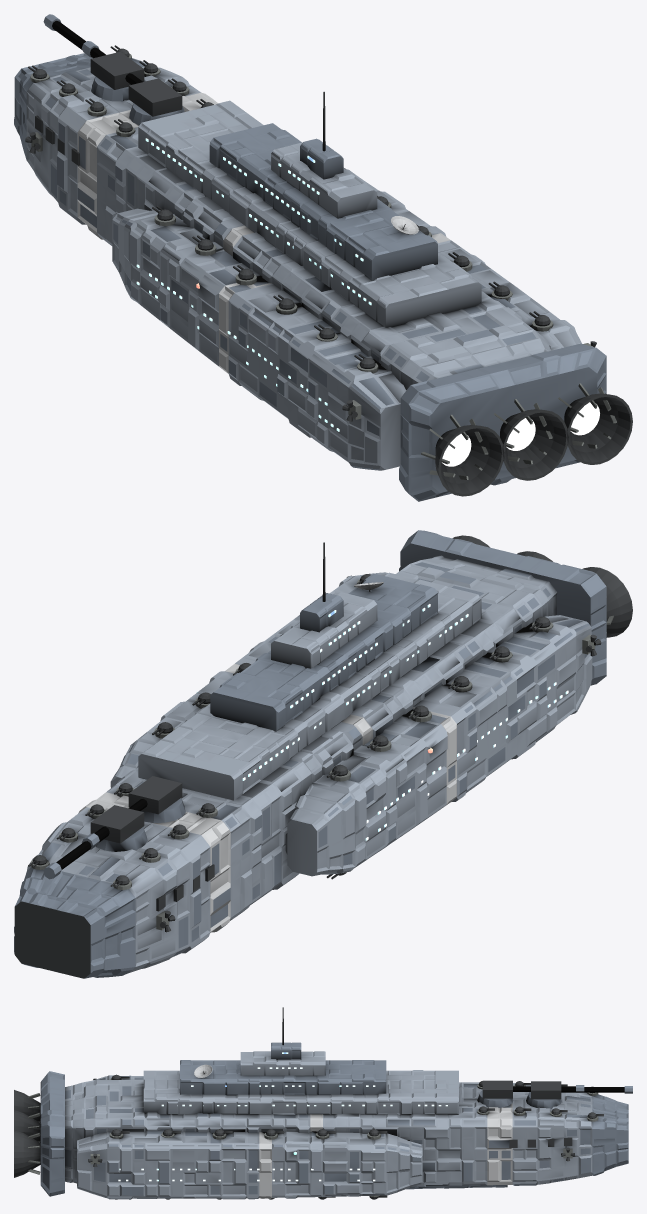
Rendered from dreadnought.glb.
3 renders of one model, top to bottom at view 1: azimuth 30°, elevation 25°; view 2: azimuth 150°, elevation 25°; view 3: azimuth 270°, elevation 25°, orthographic. The views are drawn at different scales.
Visible parts, largest first — view 1: body; view 2: body; view 3: body.
Boxes of the visible parts, x1,y1,x2,y2 form: body: (14, 14, 632, 501); body: (14, 530, 632, 978); body: (14, 1007, 632, 1199).
Bounding box in the file's own units: 0.3028 × 0.3286 × 1.02.
